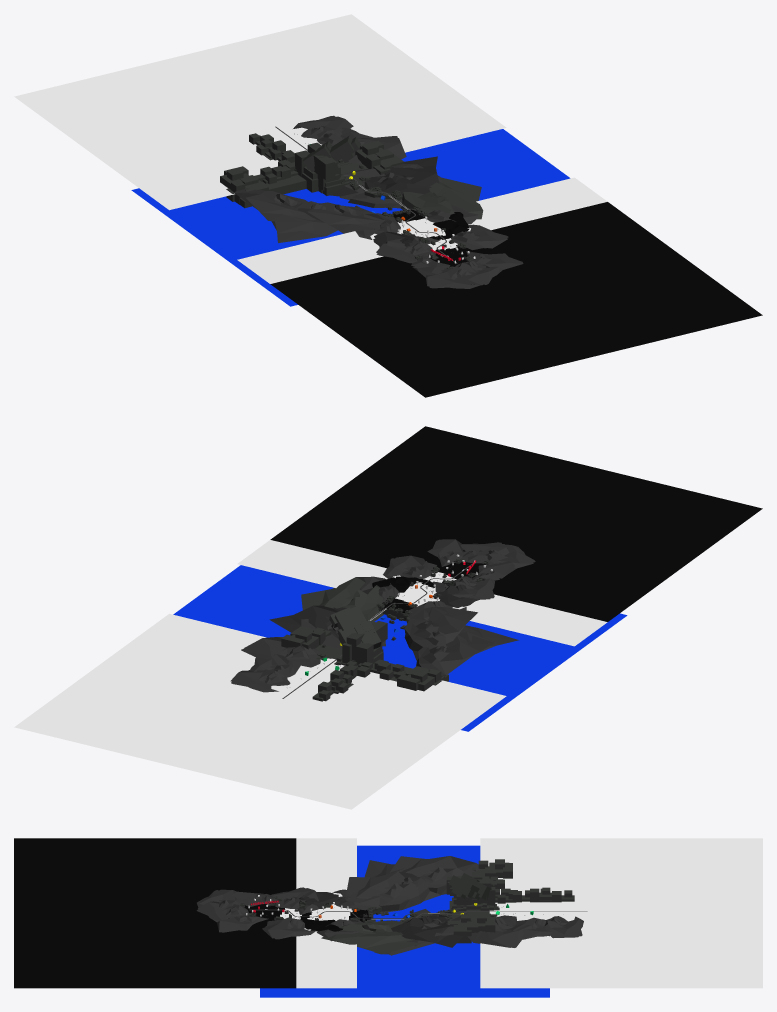
The picture shows the model from 3 angles, top to bottom: view 1: azimuth 30°, elevation 25°; view 2: azimuth 150°, elevation 25°; view 3: azimuth 270°, elevation 25°; orthographic projection. The views are drawn at different scales.
Visible parts, largest first — view 1: Plane, Plane.001, Plane2, Plane.002, Mountain2.015, Mountain2.007, Mountain2.011, Cliff4, Cliff1, Mountain2.001, Cliff4.001, Mountain2.010 (+6 smaller); view 2: Plane, Plane.001, Plane2, Plane.002, Mountain2.015, Mountain2.007, Mountain2.013, Cliff1, Mountain2.011, Mountain2.010, Mountain2.001, Cliff4.001 (+5 smaller); view 3: Plane, Plane.001, Plane2, Plane.002, Mountain2.015, Mountain2.007, Mountain2.011, Mountain2.013, Cliff4, Mountain2.001, Cliff1, Mountain2.010 (+14 smaller).
Part boxes in pixels (x1,y1,x2,y2): Plane: [270, 202, 762, 397]; Plane.001: [14, 14, 506, 210]; Plane2: [131, 129, 570, 306]; Plane.002: [237, 177, 607, 283]; Mountain2.015: [234, 188, 384, 242]; Mountain2.007: [400, 177, 483, 224]; Mountain2.011: [364, 156, 438, 194]; Cliff4: [355, 140, 404, 176]; Cliff1: [302, 135, 360, 171]; Mountain2.001: [451, 224, 508, 250]; Cliff4.001: [220, 166, 268, 208]; Mountain2.010: [293, 115, 353, 138]; Plane: [270, 426, 762, 621]; Plane.001: [14, 613, 506, 809]; Plane2: [173, 565, 627, 731]; Plane.002: [237, 540, 607, 646]; Mountain2.015: [404, 606, 518, 675]; Mountain2.007: [301, 576, 399, 623]; Mountain2.013: [241, 637, 320, 667]; Cliff1: [329, 606, 381, 648]; Mountain2.011: [269, 605, 346, 638]; Mountain2.010: [230, 669, 290, 692]; Mountain2.001: [383, 555, 436, 578]; Cliff4.001: [397, 666, 448, 691]; Plane: [14, 838, 296, 988]; Plane.001: [480, 838, 762, 988]; Plane2: [260, 845, 549, 997]; Plane.002: [296, 838, 356, 988]; Mountain2.015: [345, 856, 479, 912]; Mountain2.007: [317, 919, 427, 954]; Mountain2.011: [391, 915, 463, 947]; Mountain2.013: [467, 915, 532, 947]; Cliff4: [447, 913, 495, 943]; Mountain2.001: [262, 917, 315, 939]; Cliff1: [449, 873, 491, 900]; Mountain2.010: [540, 916, 583, 938].
Bounding box in the file's own units: 217 × 43.98 × 451.
Materials: 270 (18 with a texture image).
